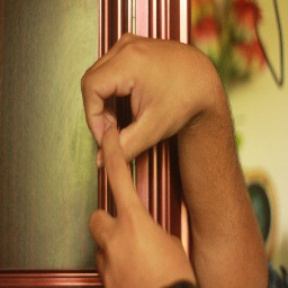Q: (75, 29, 202, 271)
